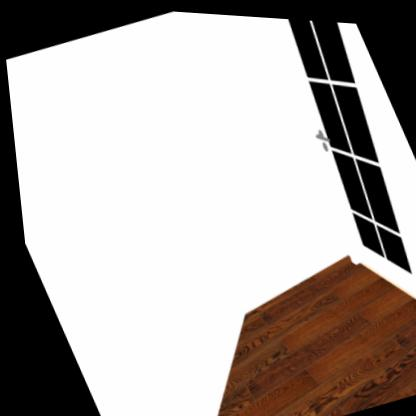Wooden floor: (208, 252, 416, 416)
